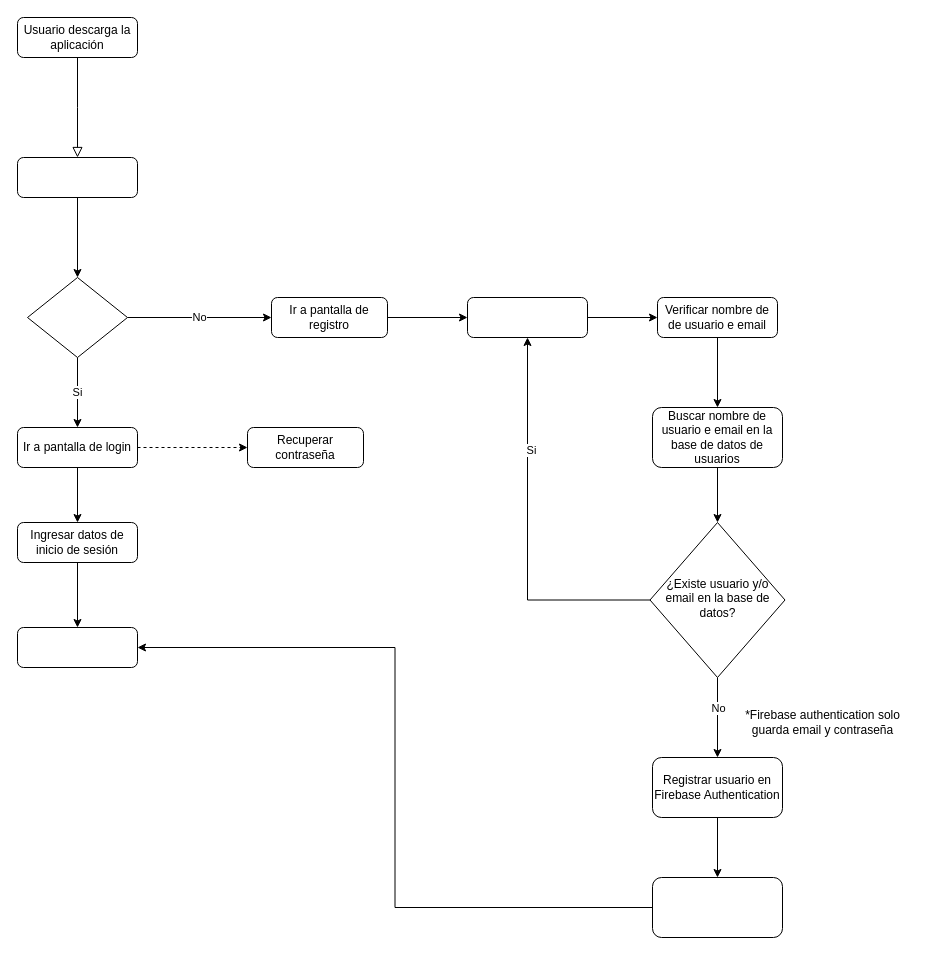
The diagram is 925 pixels wide and 955 high, and some of its shapes have lost their labels. Each missing label, with the centre of its shape:
Ejecución de aplicación desde movil: point 77,177
Ingresar datos: point 527,317
Ir a pantalla de inicio de la aplicación: point 77,647
Regisrar usuario en la base de datos: point 717,907
¿Esta registrado?: point 77,317
